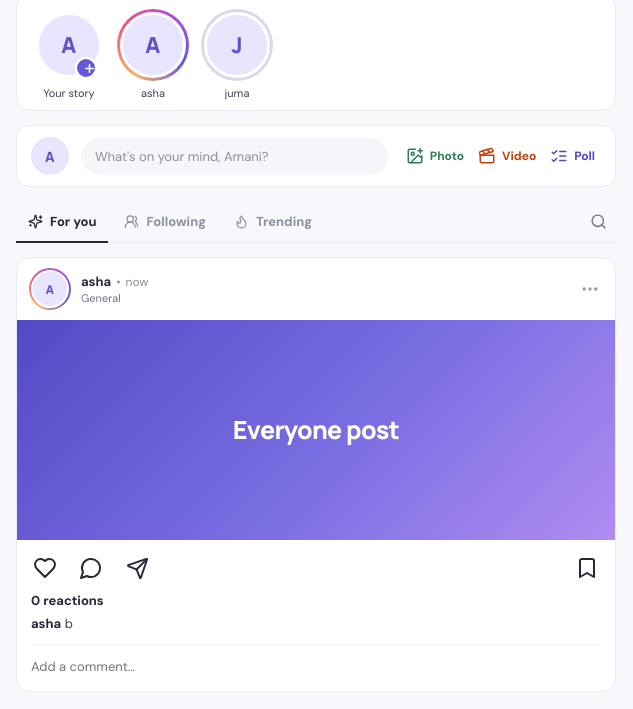
Test: HomePage › switches between For you, Following and Trending
Expected: the heading "Everyone post" is shown, top-left (233, 414), bottom-right (399, 446)
What coordinates should you click on to do the following:
click the tab "Following"
I would click on:
 (165, 222)
Its box is top-left (112, 201), bottom-right (218, 243).
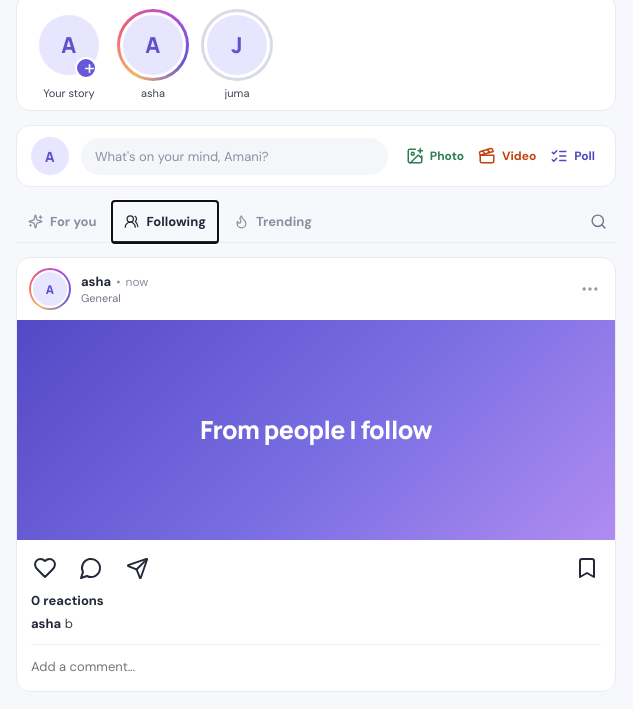
Now the heading "From people I follow" is shown, box top-left (200, 414), bottom-right (432, 446)
What coordinates should you click on to do the following:
click the tab "Trending"
I would click on:
 (273, 222)
Its box is top-left (222, 201), bottom-right (324, 243).
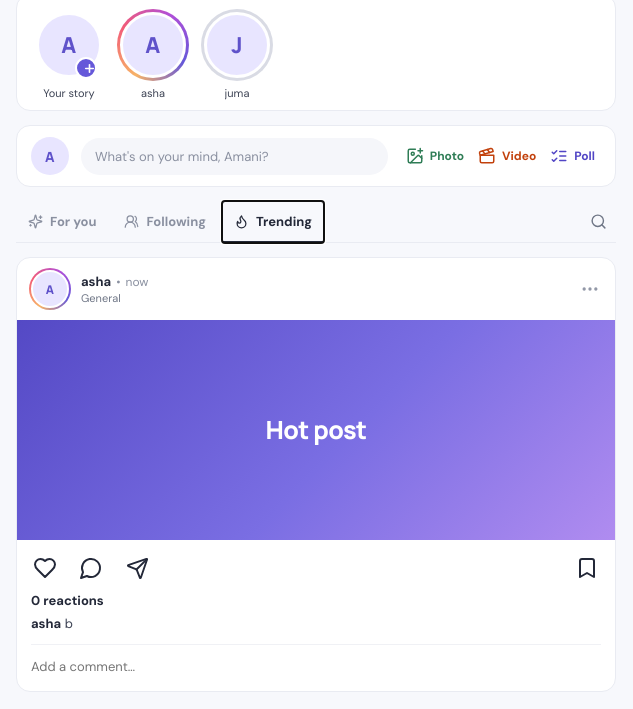
Now the heading "Hot post" is shown, box top-left (266, 414), bottom-right (366, 446)
